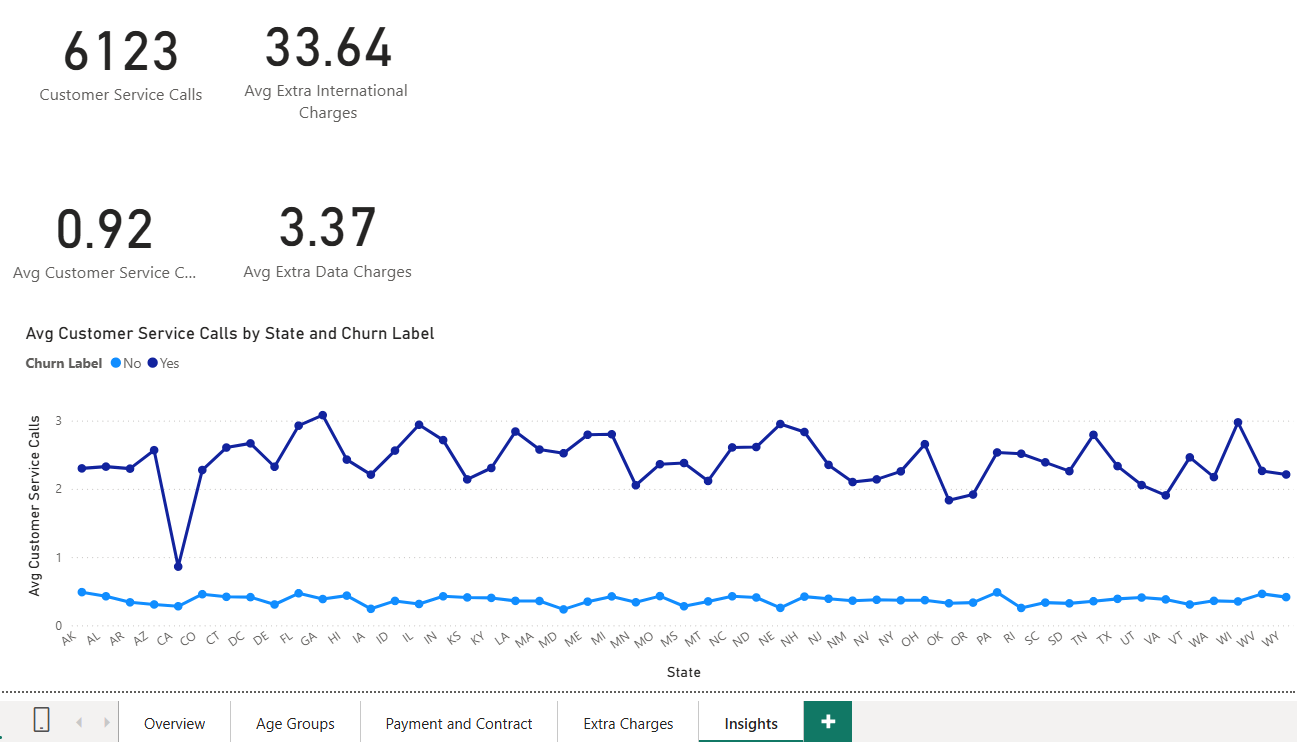

Layout of this report page (visuals, bound fields, positions):
{"tool":"powerbi","page":{"name":"Insights","canvas":[1280,720],"ordinal":9},"visuals":[{"type":"card","fields":{"Values":["Sum(Databel - Data.Customer Service Calls)"]},"box":[27.6,6.1,194.4,182.2],"z":0},{"type":"card","fields":{"Values":["Databel - Data.Avg Customer Service Calls"]},"box":[12.2,186.8,194.4,168.4],"z":1000},{"type":"card","fields":{"Values":["Databel - Data.Avg Extra International Charges"]},"box":[222,0,211.3,186.8],"z":2000},{"type":"card","fields":{"Values":["Databel - Data.Avg Extra Data Charges"]},"box":[209.8,165.4,234.3,209.8],"z":3000},{"type":"lineChart","fields":{"Category":["Databel - Data.State"],"Y":["Databel - Data.Avg Customer Service Calls"],"Series":["Databel - Data.Churn Label"]},"box":[27.2,359.9,1252.8,355],"z":4000}]}

Visuals, with their boxes on the page's 1280x720 design canvas (x1, y1, x2, y2). These are canvas units, not pixel positions in the 1297x742 screenshot, which may show the page scaled, cropped or inside an application window:
card - Sum(Databel - Data.Customer Service Calls): l=28, t=6, r=222, b=188
card - Databel - Data.Avg Customer Service Calls: l=12, t=187, r=207, b=355
card - Databel - Data.Avg Extra International Charges: l=222, t=0, r=433, b=187
card - Databel - Data.Avg Extra Data Charges: l=210, t=165, r=444, b=375
lineChart - Databel - Data.State x Databel - Data.Avg Customer Service Calls: l=27, t=360, r=1280, b=715
